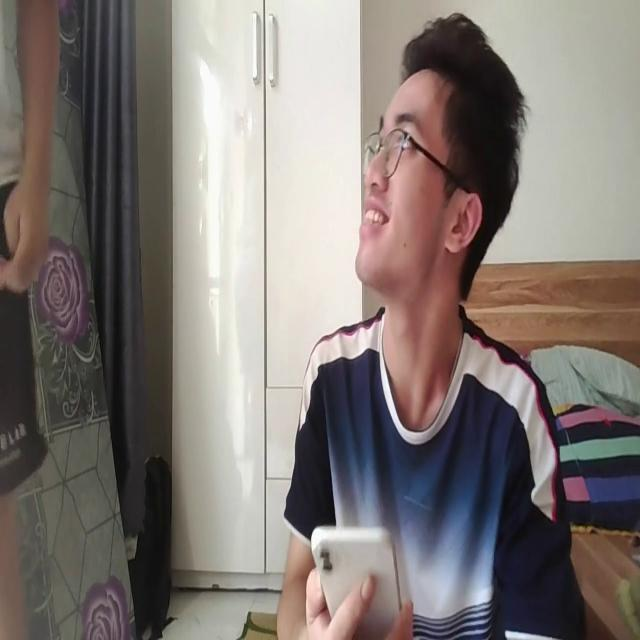extra_person: (0, 0, 60, 640)
phone: (308, 522, 416, 630)
student: (283, 3, 581, 640)
